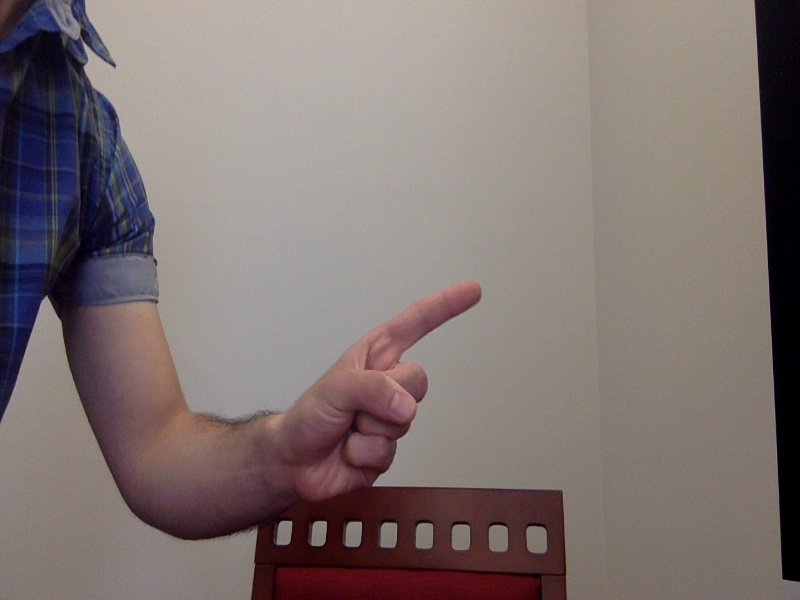1-hand: (268, 274, 485, 500)
